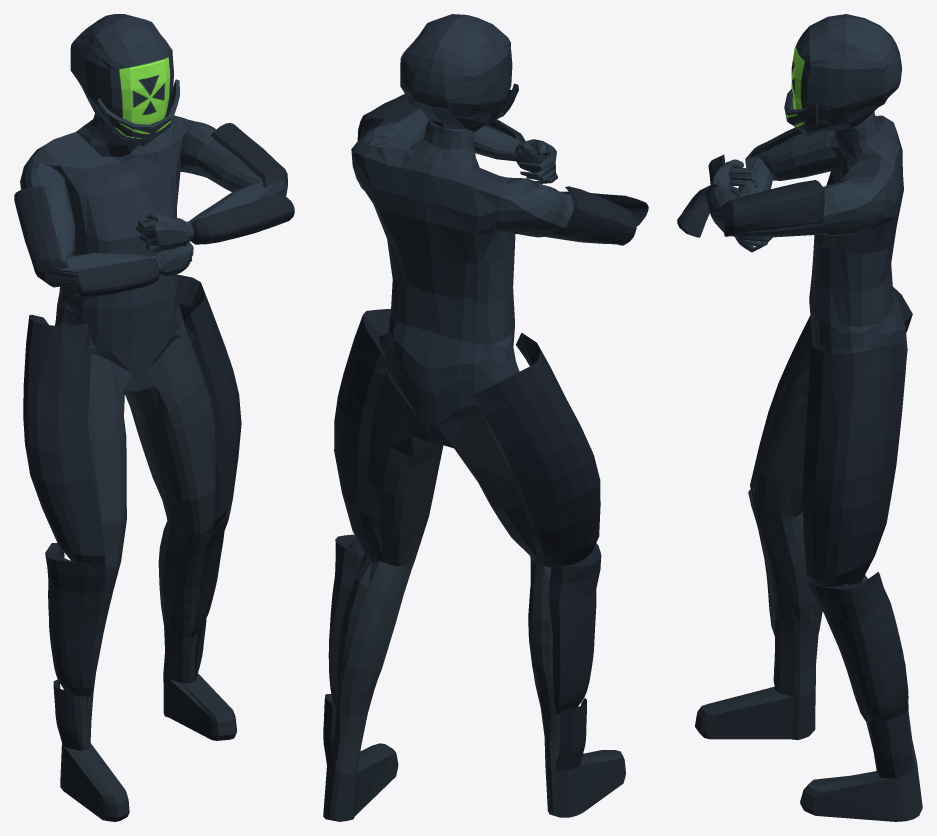
File: Bastion_WF_000015.obj
3 renders of one model, left to right at view 1: azimuth 30°, elevation 25°; view 2: azimuth 150°, elevation 25°; view 3: azimuth 270°, elevation 25°, orthographic. The views are drawn at different scales.
Parts seen in each view (by area): view 1: Cube.002; view 2: Cube.002; view 3: Cube.002.
Boxes of the visible parts, left/top/right/bottom form: Cube.002: left=14, top=14, right=294, bottom=821; Cube.002: left=323, top=14, right=648, bottom=821; Cube.002: left=677, top=14, right=922, bottom=821.
Size of the model in its own units: 1.31 by 3.83 by 1.13.
